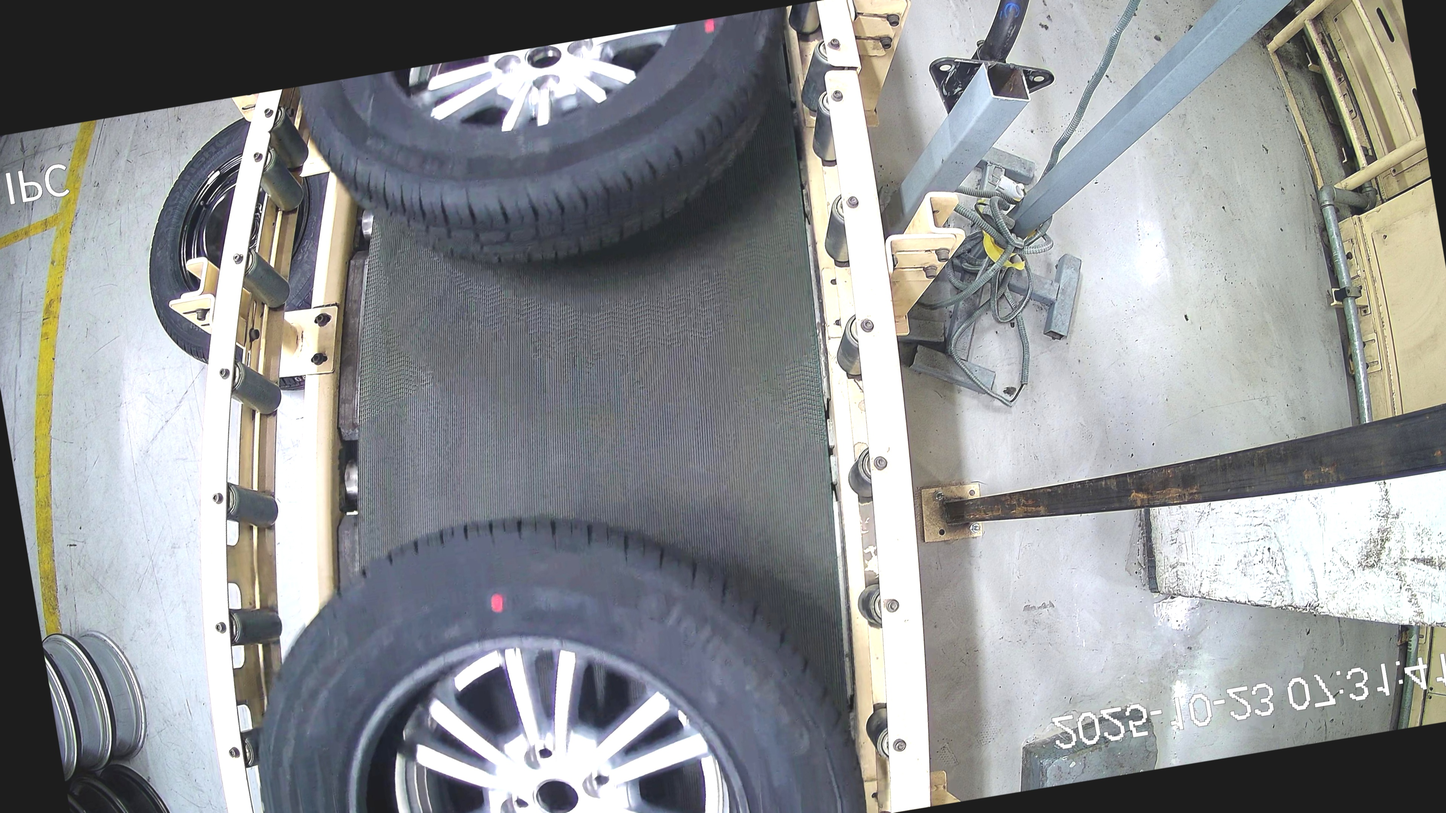white_wheel: (368, 606, 741, 813), (402, 25, 690, 150)
